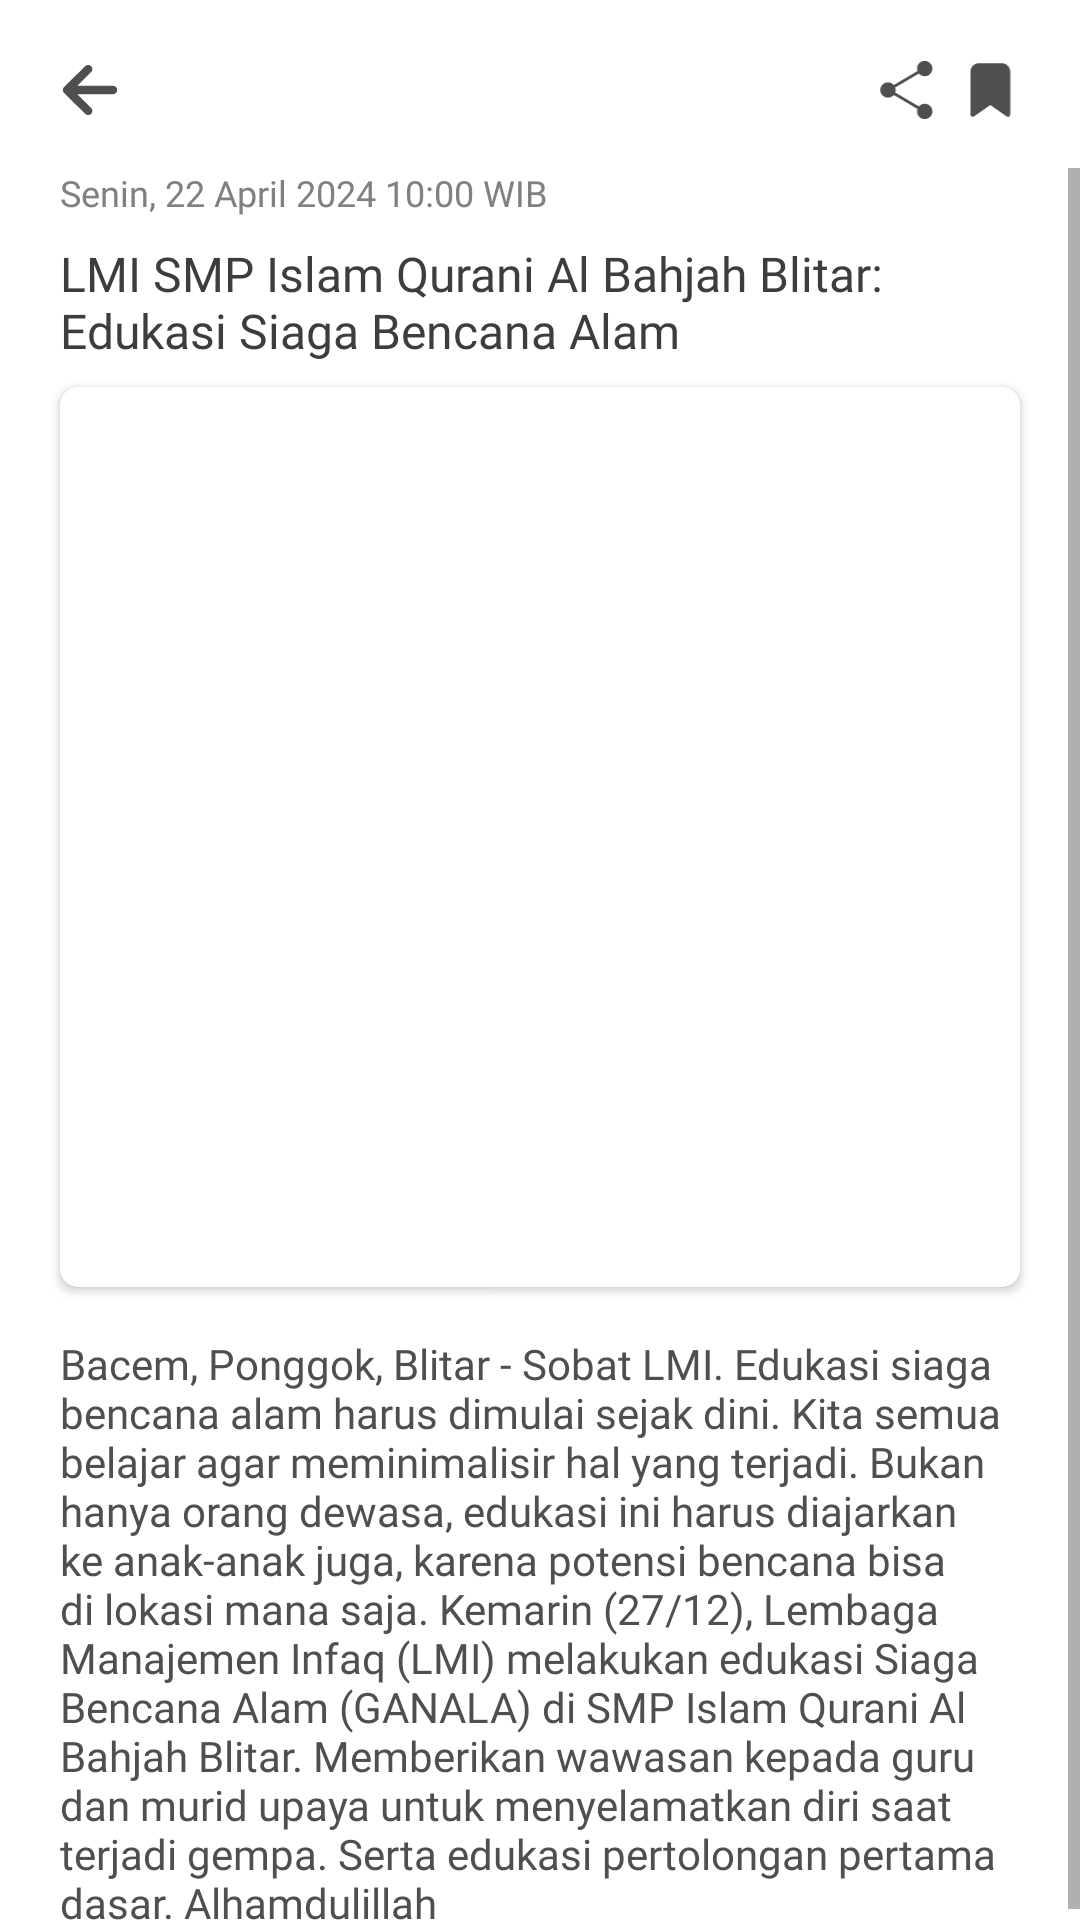

Where icons sit on this 1080*1920 app screen, as BBox(x1, y1, x2, y2):
arrowback: BBox(63, 65, 117, 115)
saved: BBox(970, 63, 1011, 117)
share: BBox(880, 61, 933, 119)
